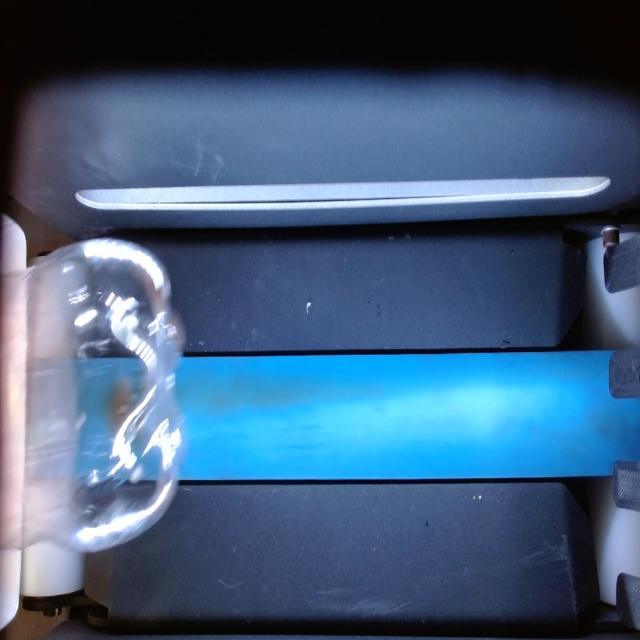bottom: (0, 238, 184, 551)
